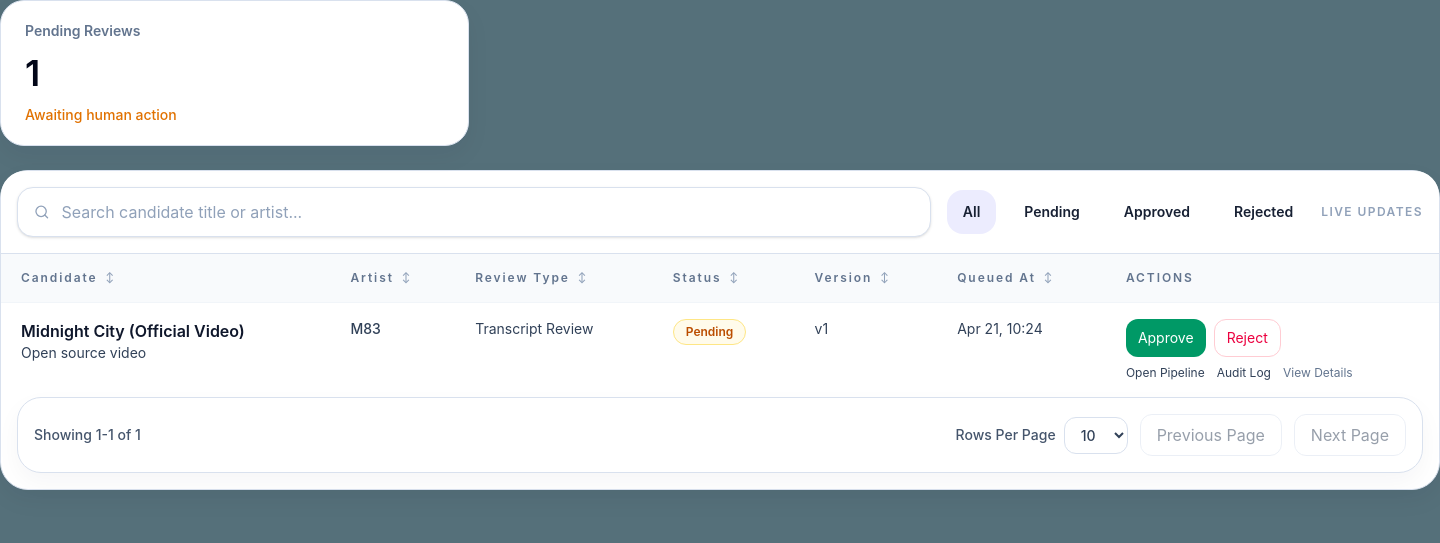
Test case: QueueDashboardClient › submits approve action with expected version and actor id
This screenshot has width=1440, height=543.
What coordinates should you click on to do the following:
click the button "Approve"
I would click on:
 (1166, 338)
Its box is [1126,319,1206,357].
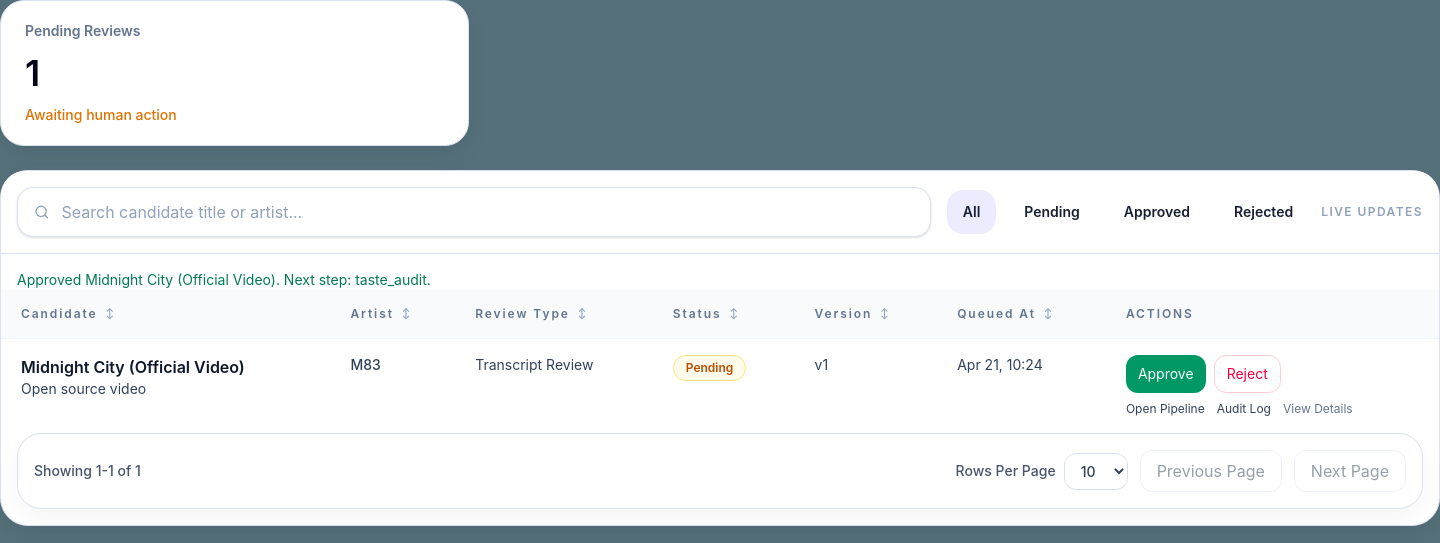
Check: the text "Next step: taste_audit" is shown, box [17,271,431,288]
